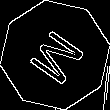M_SE: (21, 22, 89, 88)
